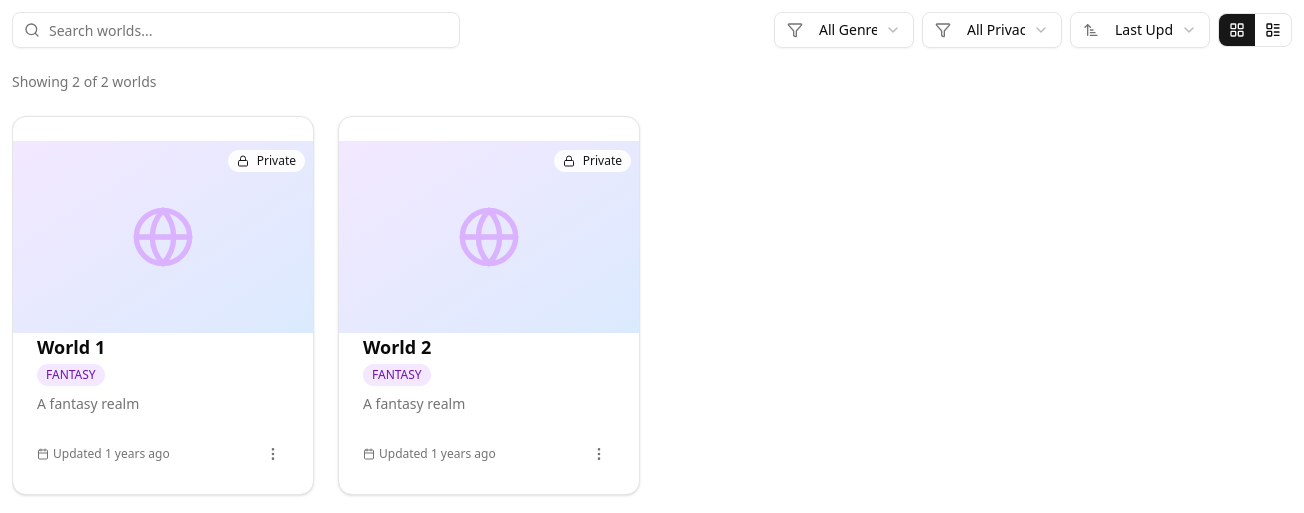
Test case: WorldsList › Search › clears search when X button clicked
The image size is (1304, 513).
In the field with placeholder "Search worlds...": [236, 30] box [12,12,460,48], type "World 1"
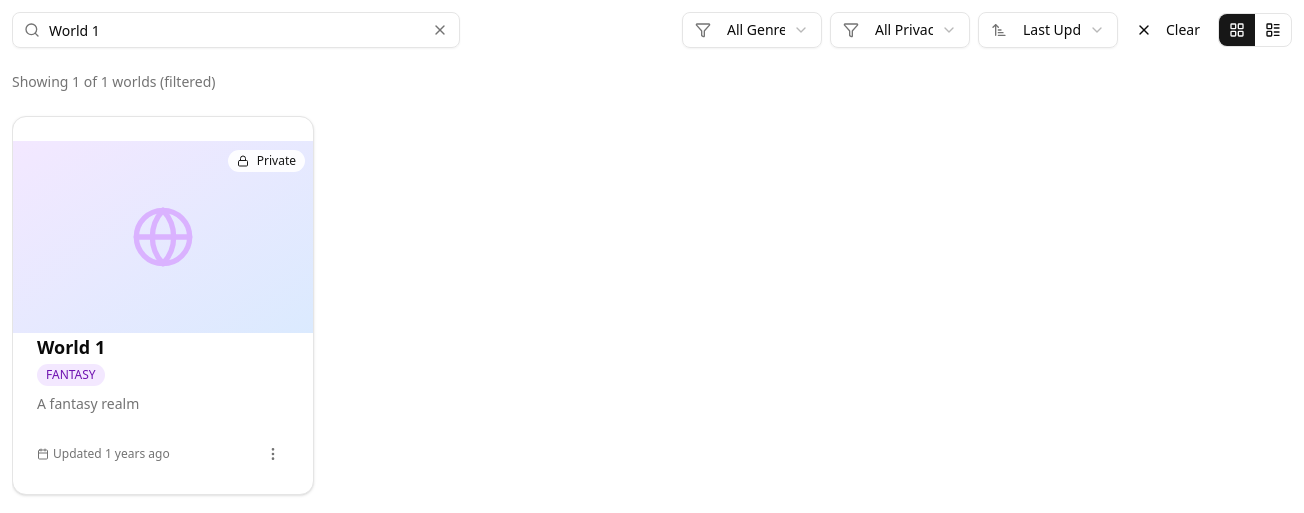
Result: the link "World 2" is gone
Click the 1st button: [440, 30] box [432,22,448,38]
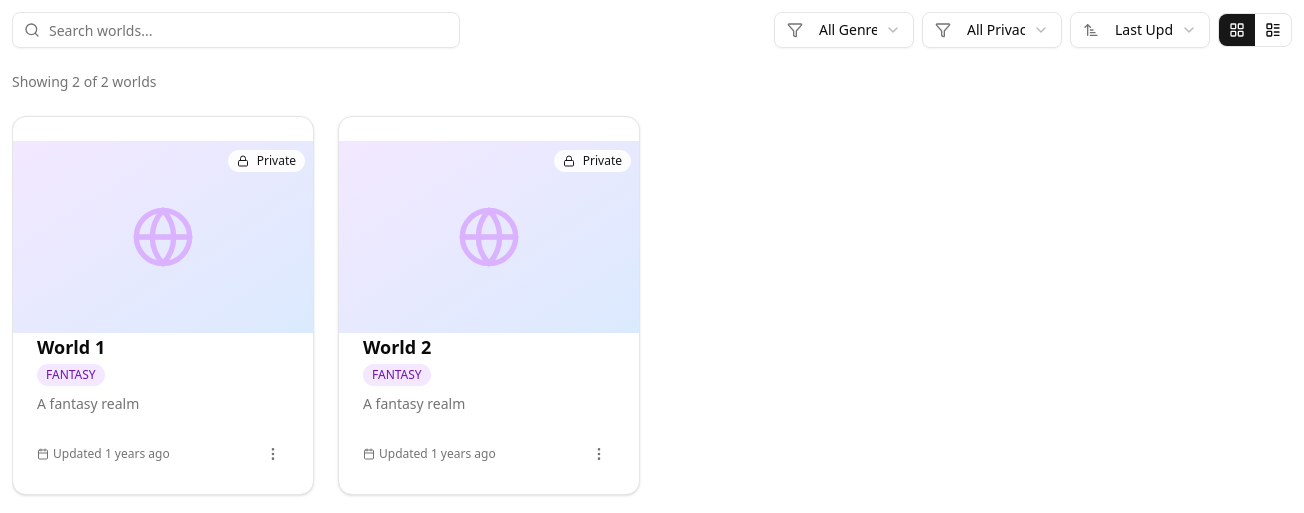
Expected: the heading "World 1" is shown, [37,335,105,359]
Result: the heading "World 2" is shown at [363,335,431,359]
